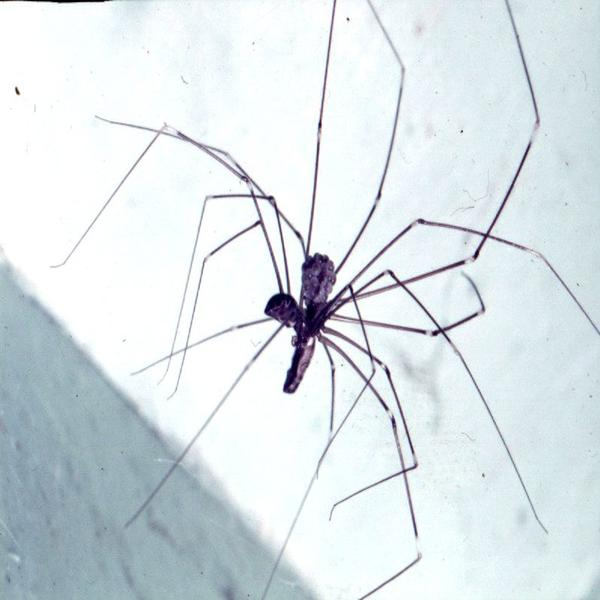Daddy Long Legs Spider: (91, 23, 565, 591)
